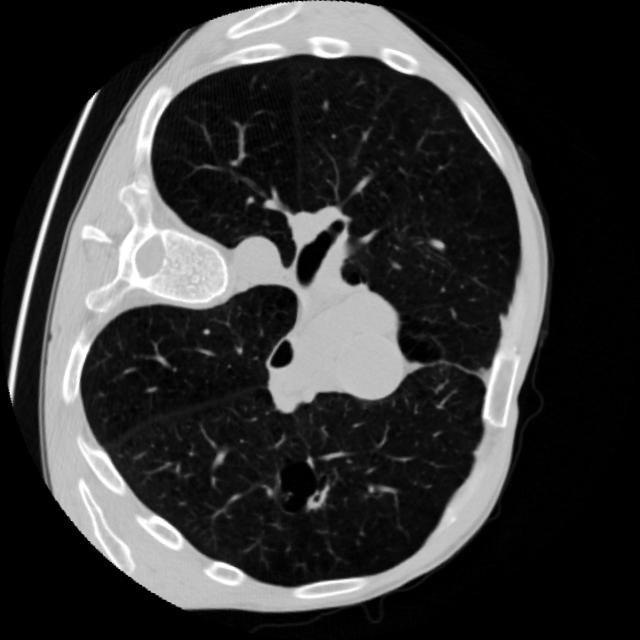nodule: (286, 468, 344, 526)
